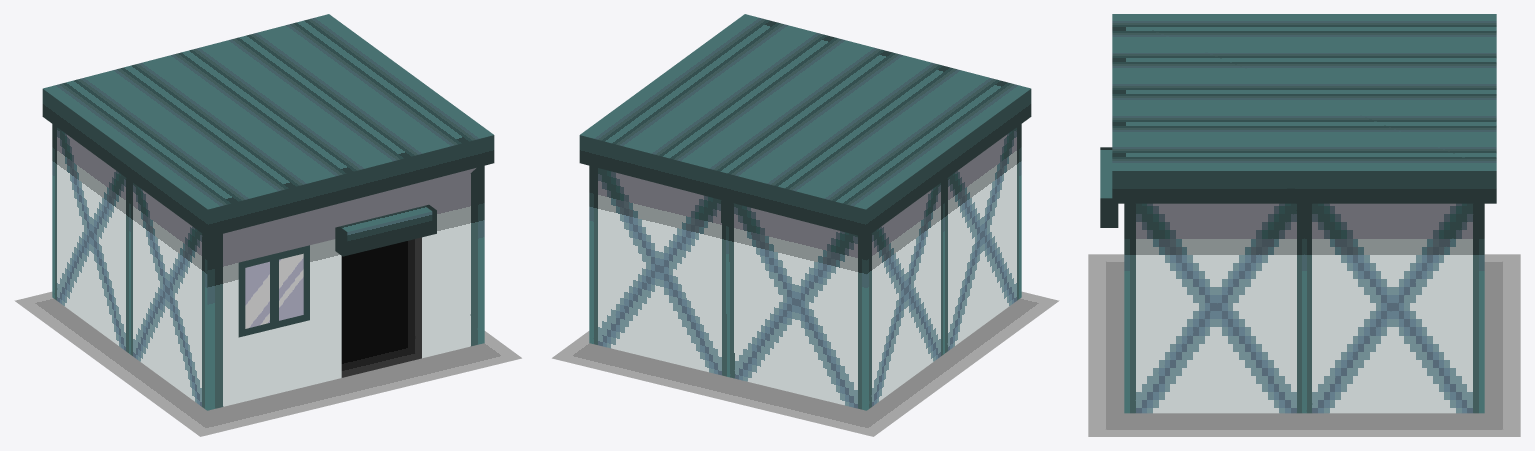
3 views of the same model, side by side, from view 1: azimuth 30°, elevation 25°; view 2: azimuth 150°, elevation 25°; view 3: azimuth 270°, elevation 25° (orthographic). The views are drawn at different scales.
Parts seen in each view (by area): view 1: polygon1, polygon3, polygon0, polygon2; view 2: polygon1, polygon3; view 3: polygon1, polygon3.
Boxes of the visible parts, <box> form: polygon1: <box>42,14,494,410</box>; polygon3: <box>14,291,521,436</box>; polygon0: <box>341,237,421,377</box>; polygon2: <box>245,253,303,328</box>; polygon1: <box>579,14,1031,410</box>; polygon3: <box>552,291,1059,436</box>; polygon1: <box>1100,14,1496,413</box>; polygon3: <box>1088,254,1520,436</box>.
Size of the model in its own units: 9 by 5.88 by 9.
